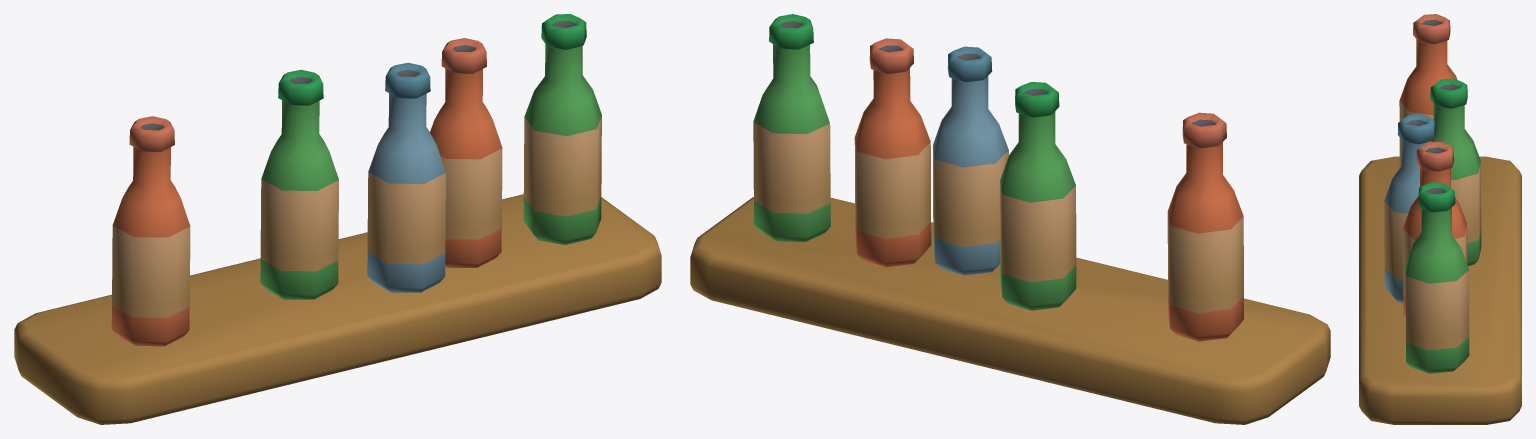
The model's file is Decor_Bar_1.fbx.
3 views of the same model, side by side, from view 1: azimuth 30°, elevation 25°; view 2: azimuth 150°, elevation 25°; view 3: azimuth 270°, elevation 25° (orthographic). The views are drawn at different scales.
Parts seen in each view (by area): view 1: Decor_Bar_1; view 2: Decor_Bar_1; view 3: Decor_Bar_1.
Part boxes in pixels (box(x1,y1,x2,y2)): Decor_Bar_1: box(14, 14, 661, 424); Decor_Bar_1: box(690, 14, 1330, 424); Decor_Bar_1: box(1359, 14, 1521, 424).
Bounding box in the file's own units: 184 × 77.33 × 53.6.
